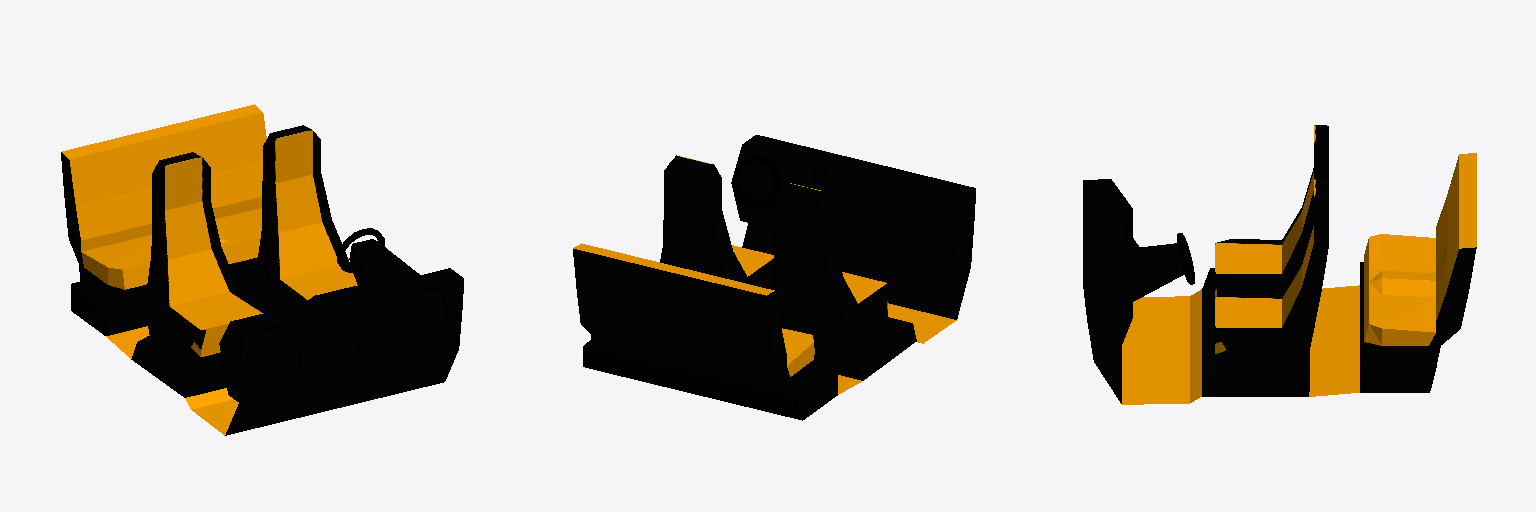
The picture shows the model from 3 angles: view 1: azimuth 30°, elevation 25°; view 2: azimuth 150°, elevation 25°; view 3: azimuth 270°, elevation 25°; orthographic projection.
Visible parts, largest first — view 1: pTorus2; view 2: pTorus2; view 3: pTorus2.
Boxes of the visible parts, x1,y1,x2,y2 form: pTorus2: [61, 104, 463, 435]; pTorus2: [573, 135, 975, 420]; pTorus2: [1083, 125, 1476, 404].
Bounding box in the file's own units: 4.96 × 4.1 × 7.68.
4 materials, 3 textured.